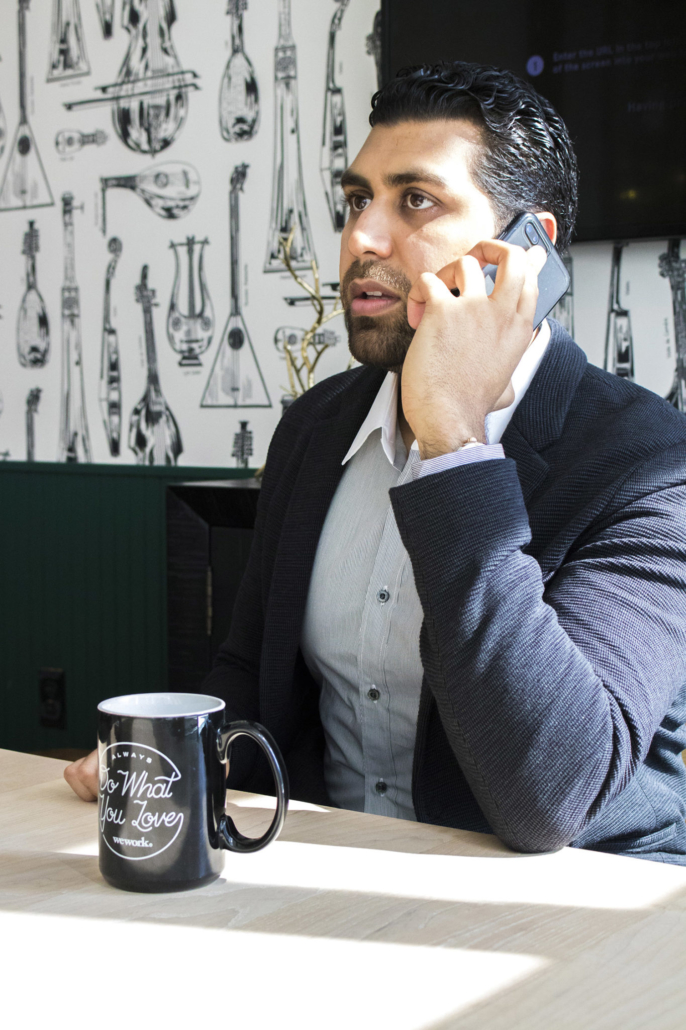wework: (113, 835, 150, 851)
